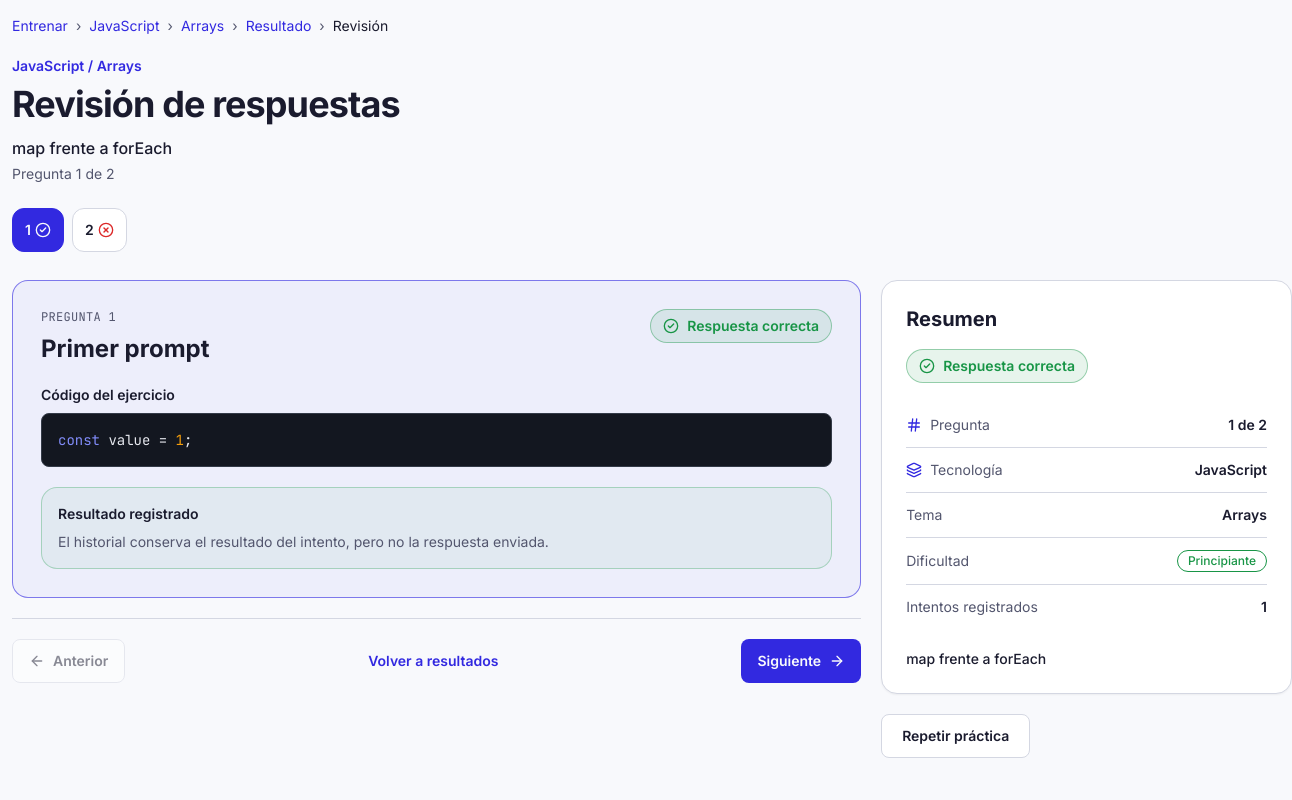
Test: ReviewPage › permite seleccionar un step con el indicador y conserva su estado semántico
Expected: the heading "Primer prompt" is shown, [41, 333, 210, 365]
Click the button named "Ir a la pregunta 2, incorrecta".
click(99, 230)  # box [72, 208, 127, 252]
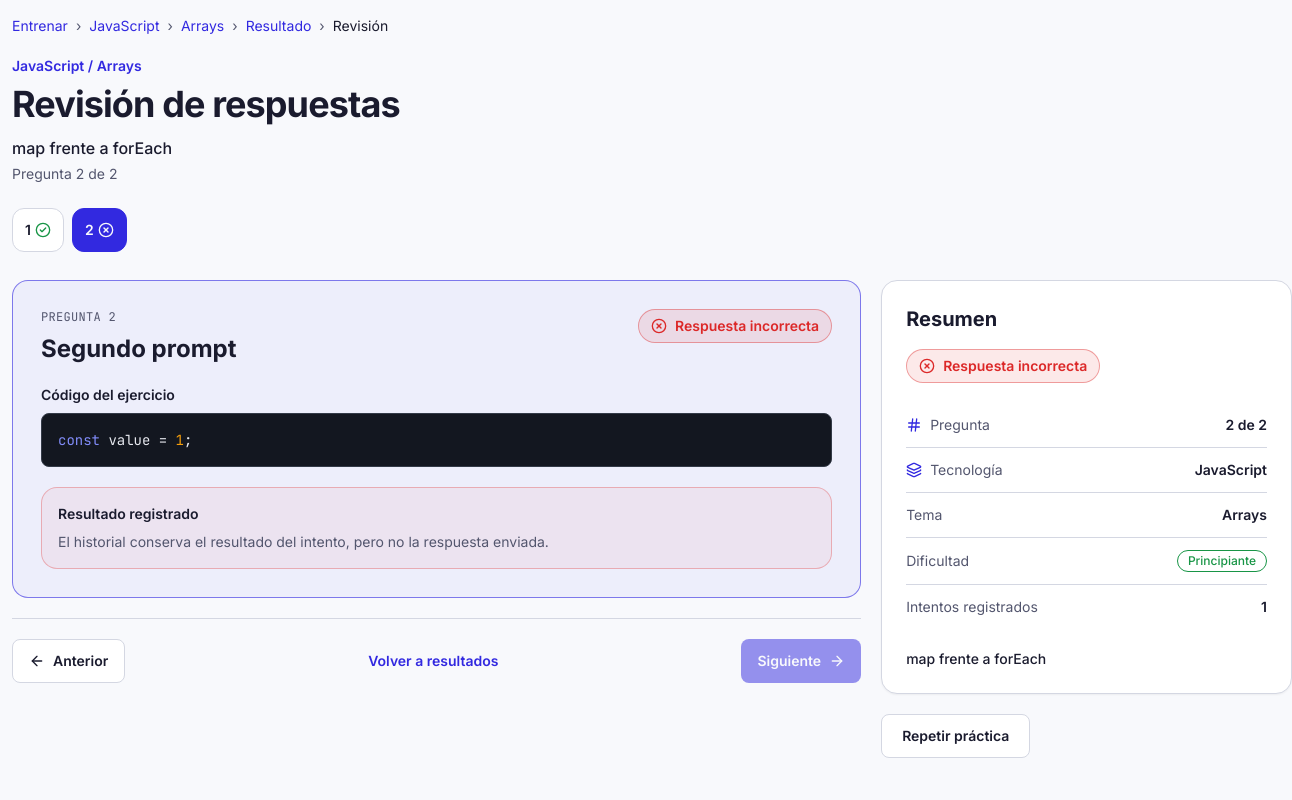
Expected: the heading "Segundo prompt" is shown, [41, 333, 236, 365]
